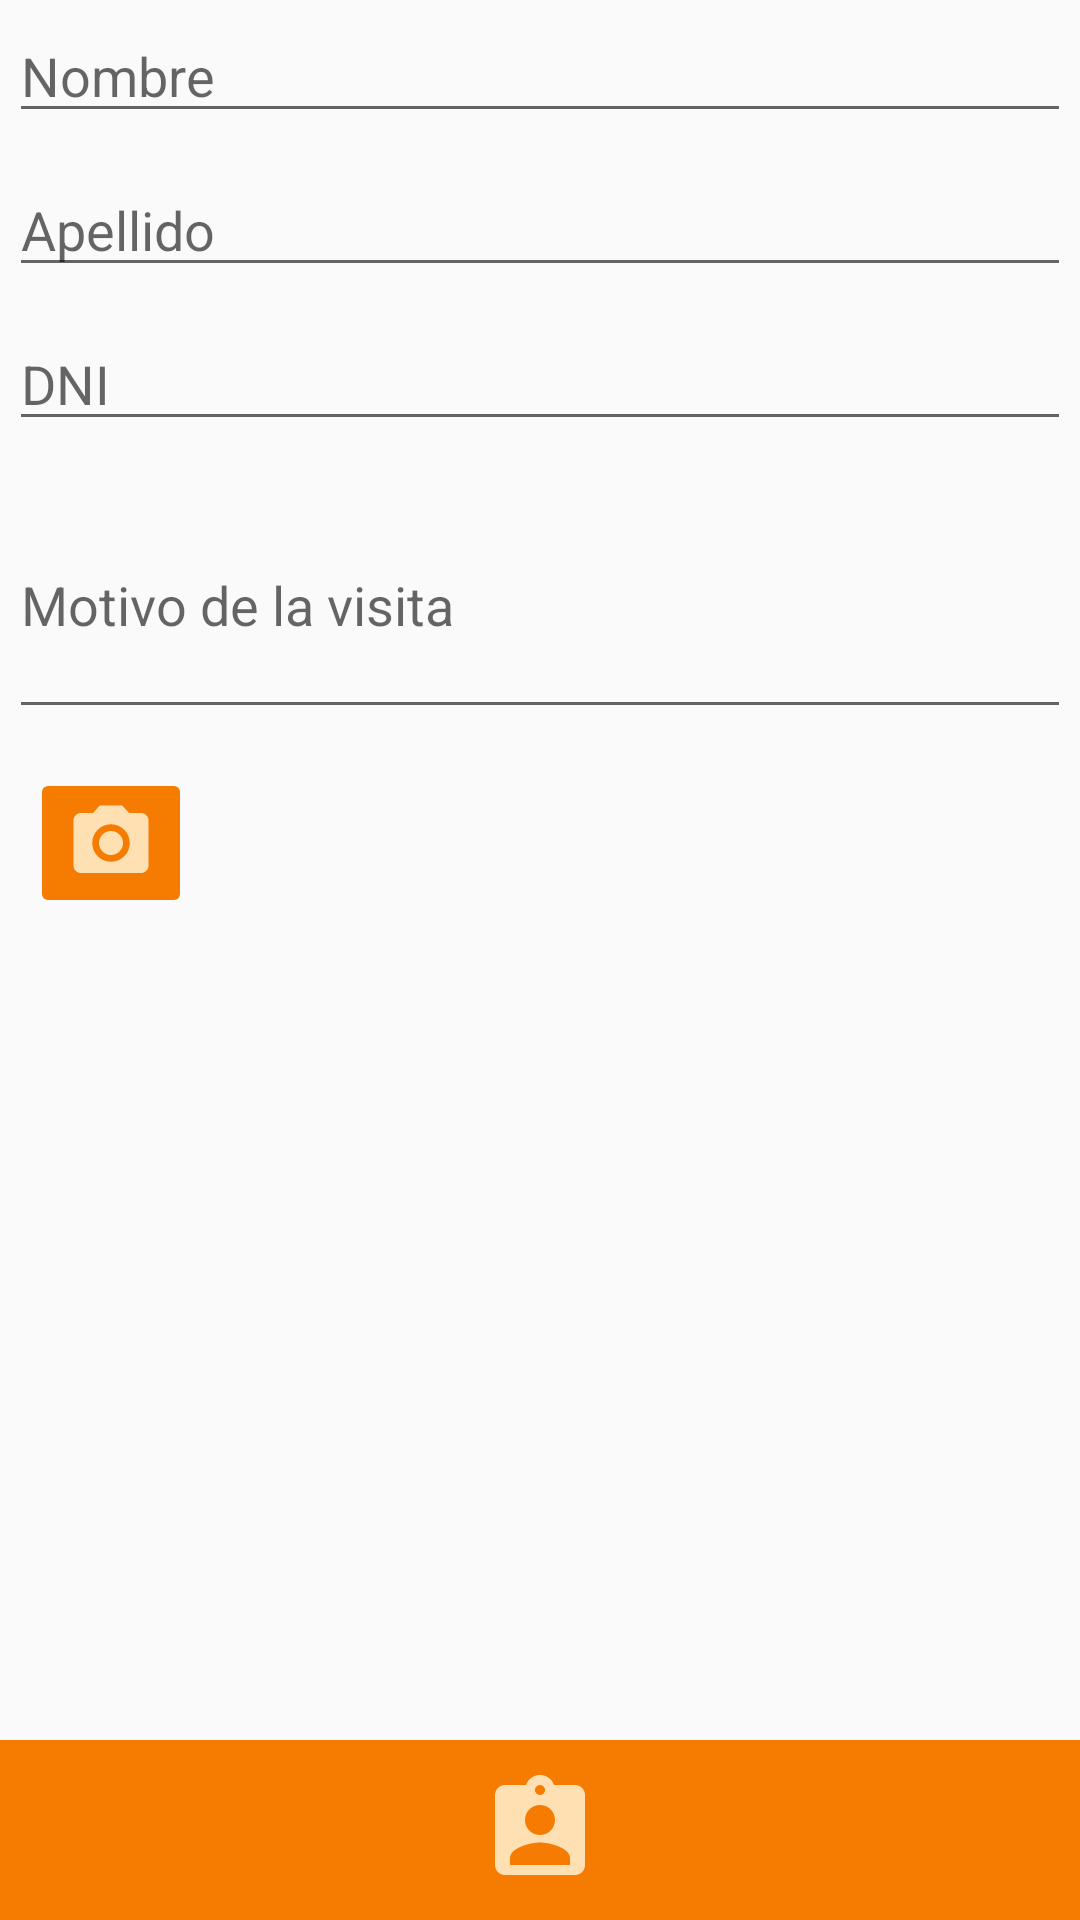

Where icons sit on this 1080*1920 app screen, as (x1, y1, x2, y2):
assignment ind: (495, 1775, 585, 1875)
photo camera registro: (42, 786, 180, 900)
